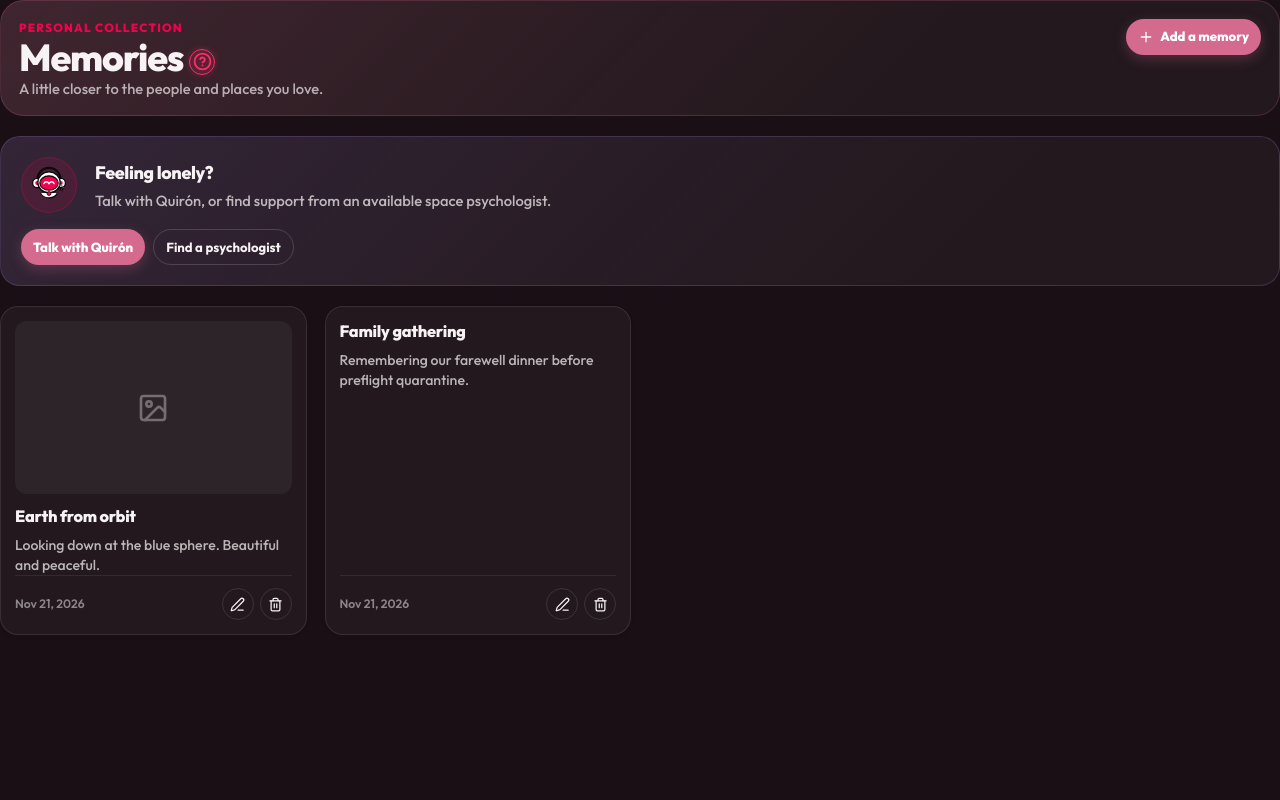
Test: MemoriesPage › handles absence of psychologist with exact requirement message
expect the heading "Feeling lonely?" is shown: met, box [95, 161, 213, 184]
Click the button "Find a psychologist" at (224, 247), box [153, 229, 294, 265]
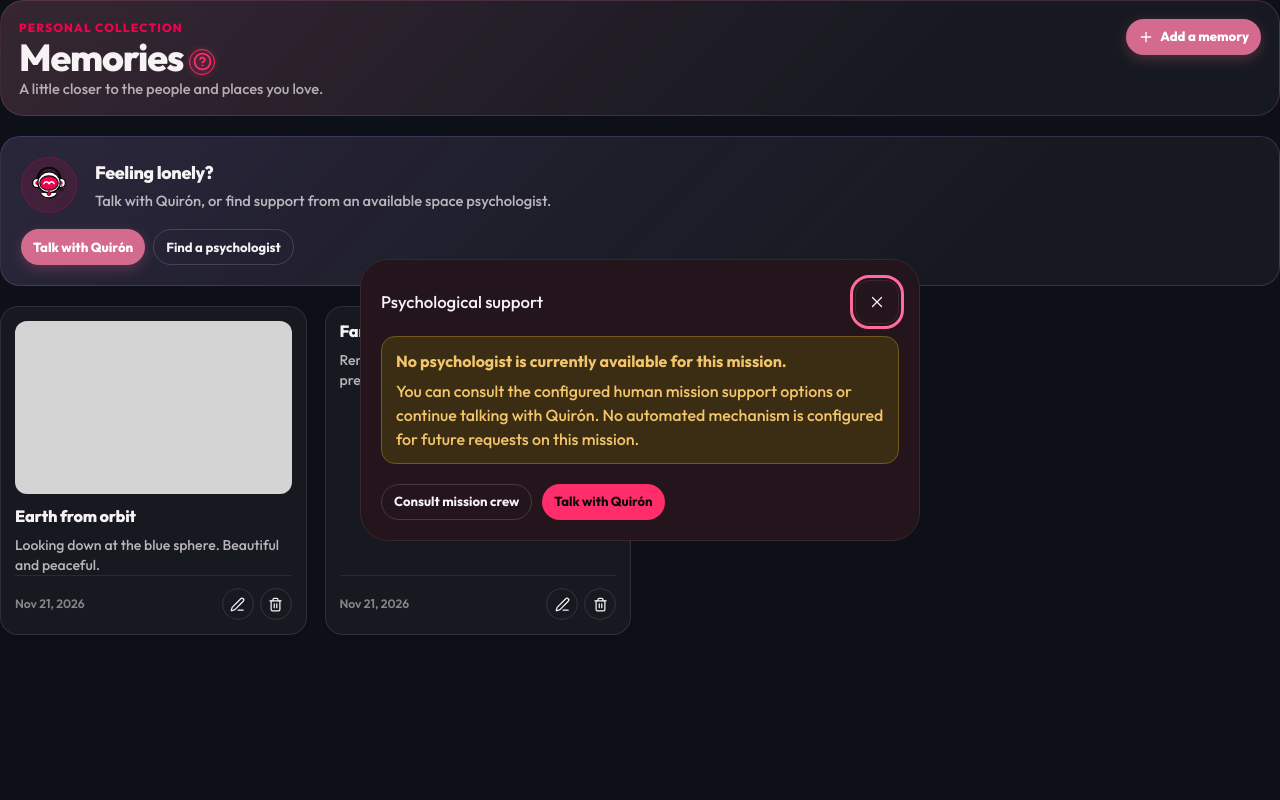
expect the text "No psychologist is currently available for this mission." is shown: met, box [396, 351, 787, 371]
expect the text "You can consult the configured human mission support options" is shown: met, box [396, 381, 883, 449]
